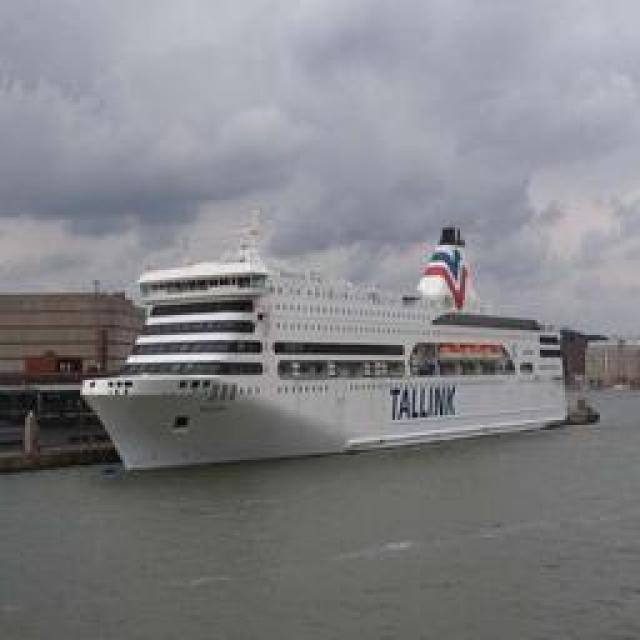CIV_Ship: (86, 220, 582, 468)
